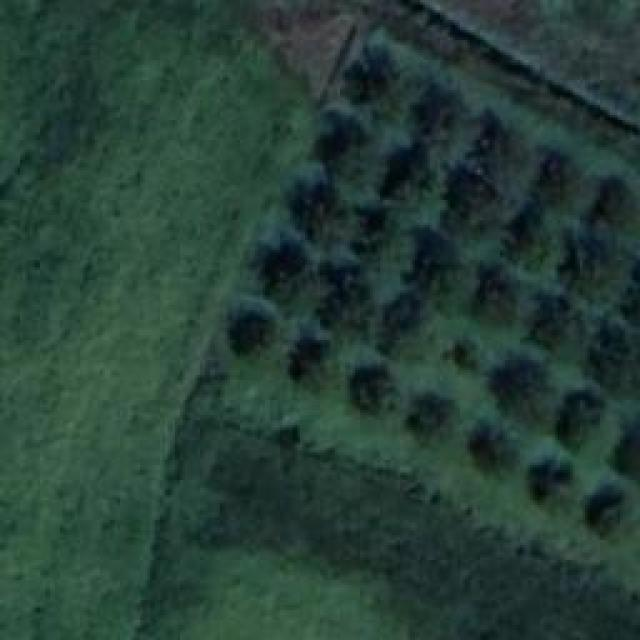Tree: (555, 225, 625, 313), (315, 258, 373, 353), (482, 353, 550, 433), (285, 175, 353, 253), (400, 228, 465, 308), (373, 290, 436, 370), (498, 200, 561, 280), (438, 165, 498, 248), (582, 318, 640, 401), (308, 113, 373, 186), (248, 240, 321, 305), (340, 48, 408, 113), (470, 110, 530, 183), (375, 138, 433, 213), (465, 263, 525, 333), (555, 387, 613, 455), (403, 80, 468, 140), (342, 362, 400, 420), (532, 292, 590, 350), (592, 173, 640, 236), (350, 208, 398, 268), (530, 150, 583, 203), (465, 422, 513, 480), (287, 328, 335, 383), (582, 483, 630, 538), (607, 414, 640, 487), (410, 393, 460, 438), (528, 460, 571, 510), (230, 315, 268, 355), (625, 263, 640, 326), (448, 337, 478, 365)
